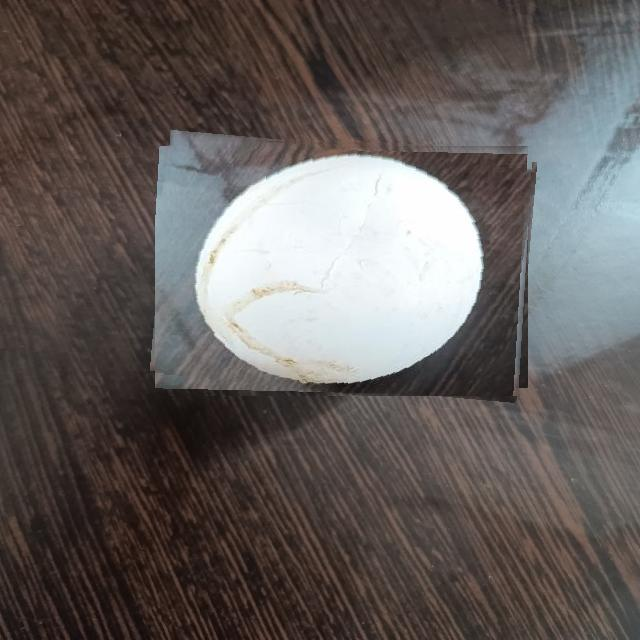biodegradable: (155, 138, 533, 396)
